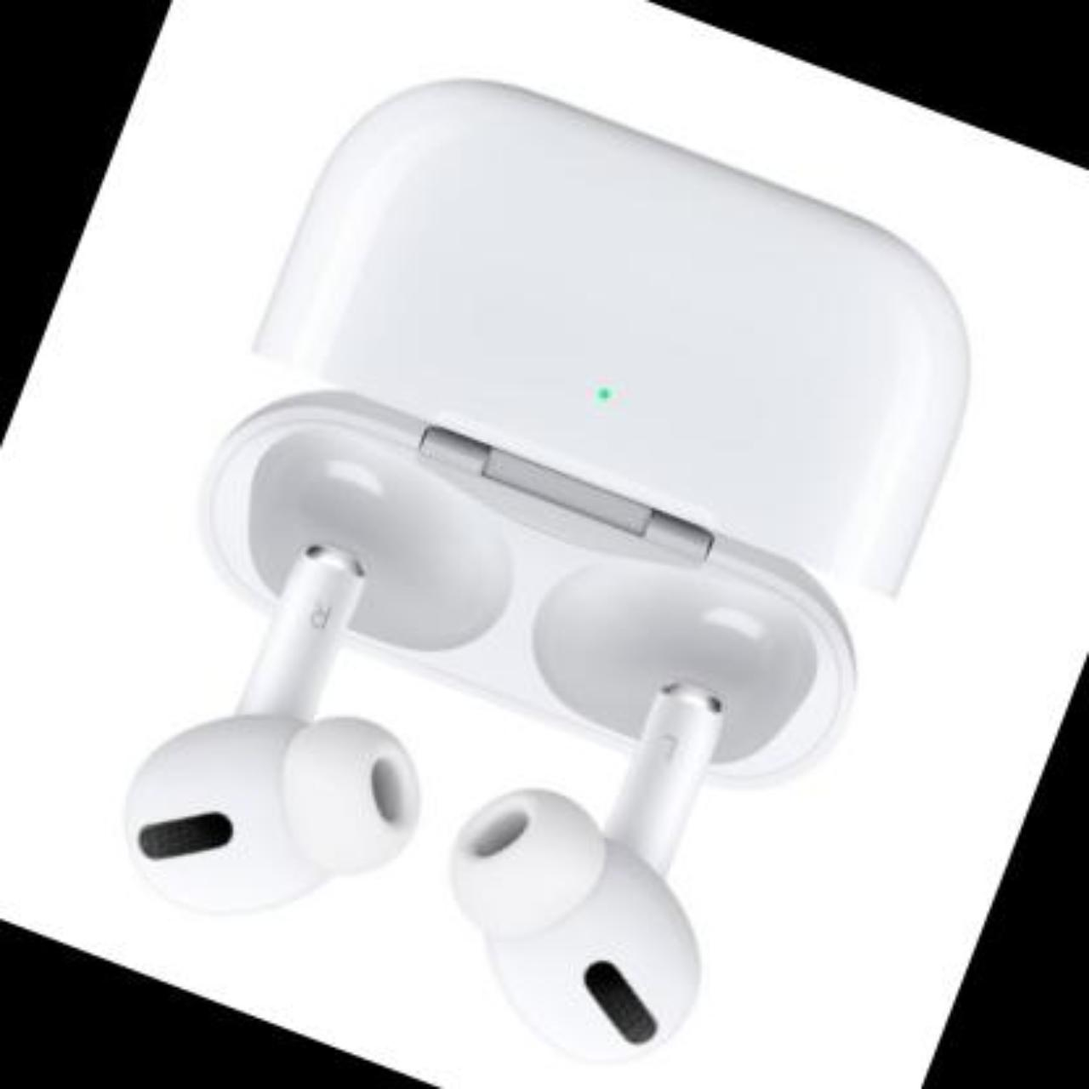Airpods_Units: (401, 623, 801, 1089), (96, 507, 488, 972)
